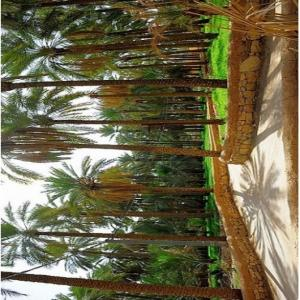palm tree: (0, 0, 298, 300)
